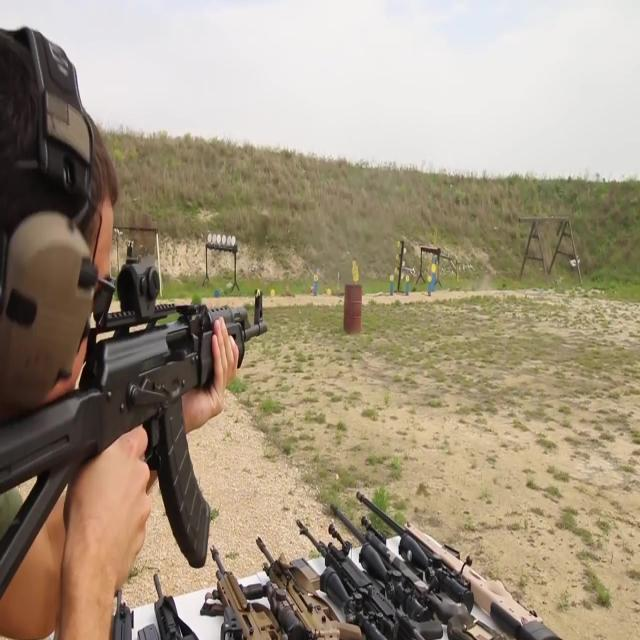Weapon: (0, 245, 322, 566), (70, 489, 563, 640)
